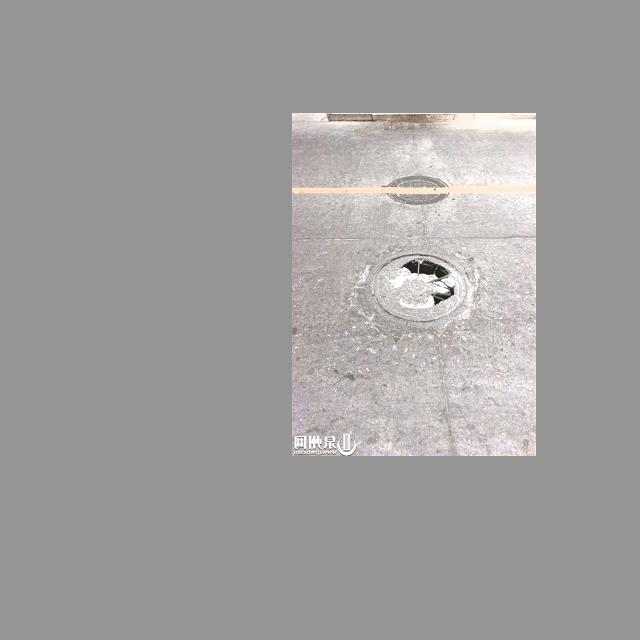broke: (337, 238, 487, 346)
